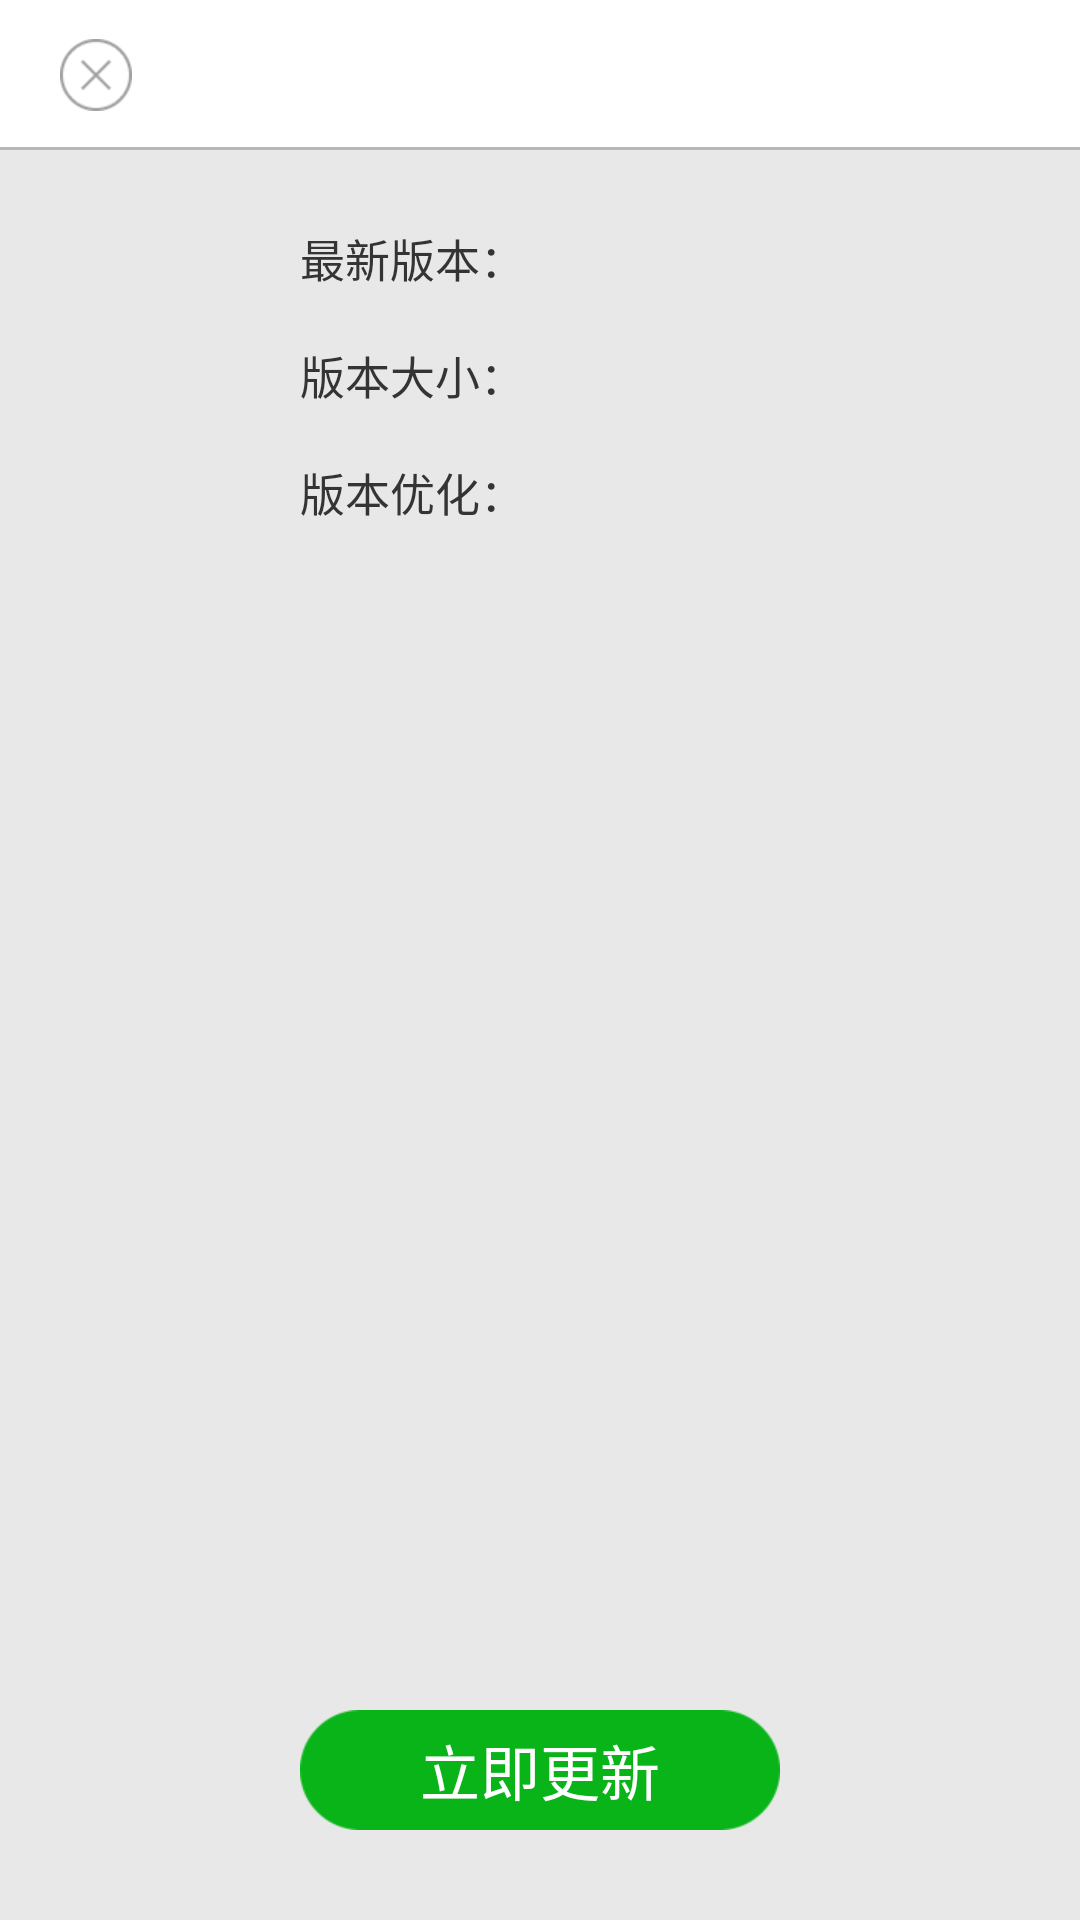

Point at icon controls on the screen. Image size 1080×1920, points as [x,y].
title bt close states: [96,75]
